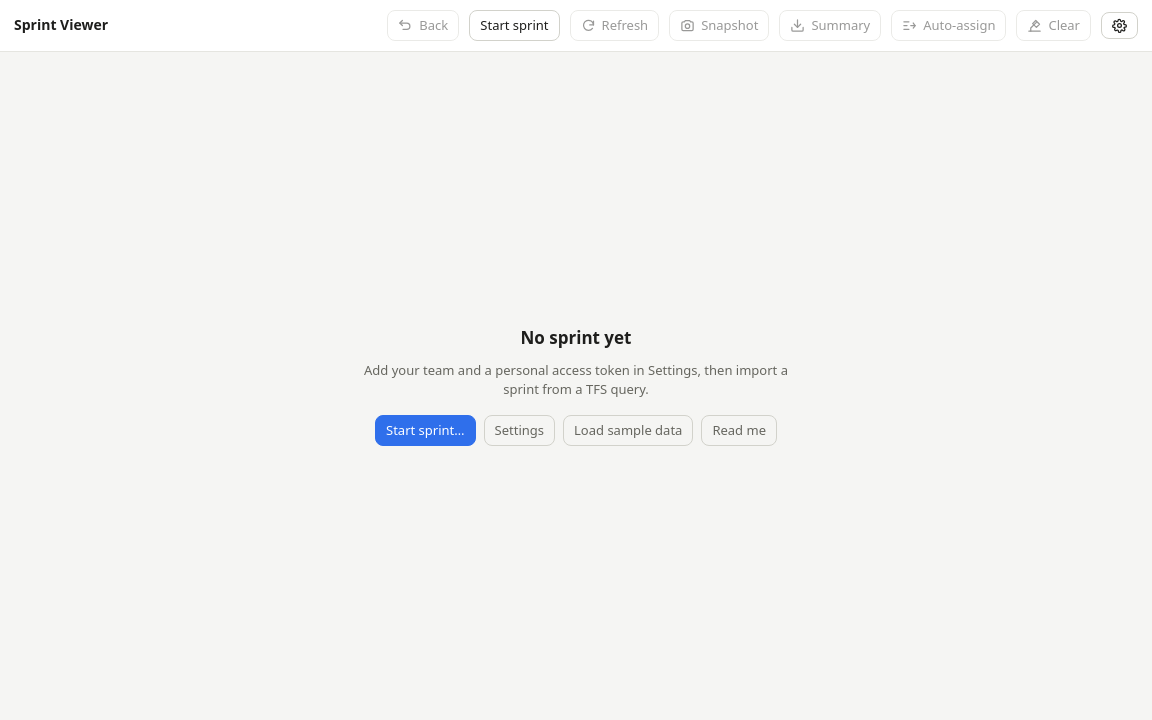
it: App › opens on the empty state, loads the sample, and shows the board
Click the button "Load sample data". click: (628, 430)
box: [563,415,693,446]
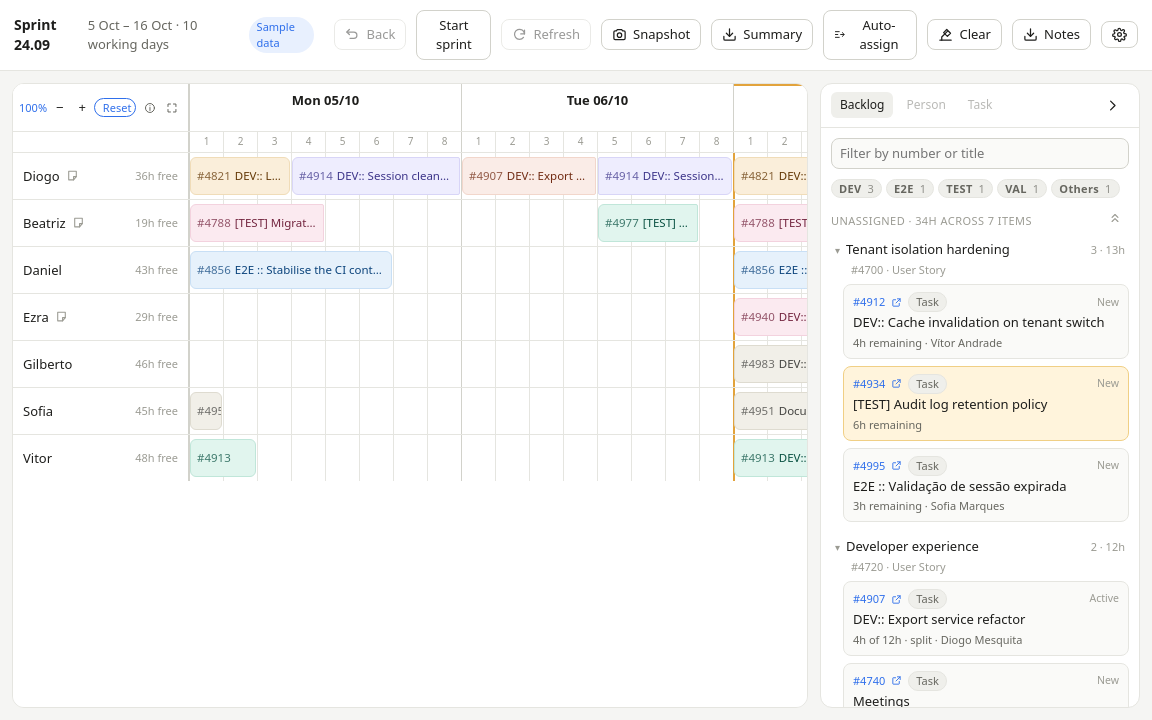
Check: the text "Sample data" is shown, box [249,17,314,53]
Check: the 1st button with class "seg" is shown, box [190,157,290,195]
